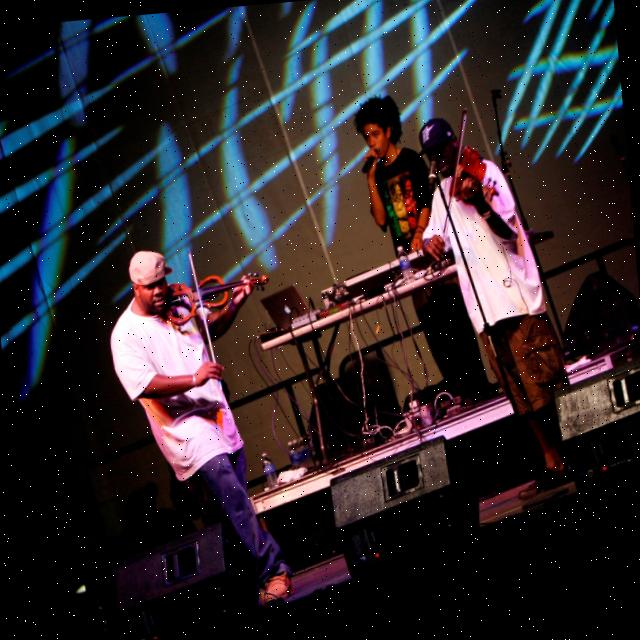violin: (159, 266, 277, 327), (439, 144, 502, 209)
